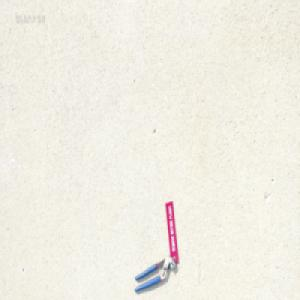Label: (165, 200, 179, 262)
Pliers: (134, 254, 176, 291)
